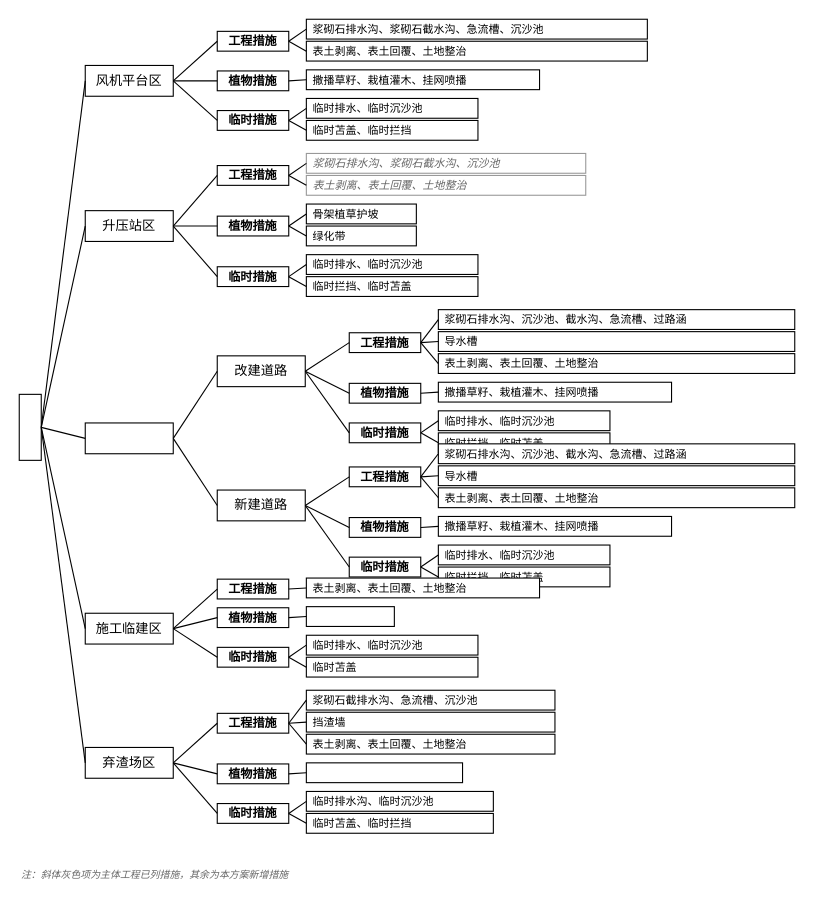
Image size: 814x905. Some labels were removed from this diagram. The shapes that lost their labels are listed below. From the top down, each one's centre as x and y in pixels, then its label:
At pixel 29 426: "防治措施体系".
At pixel 128 438: "道路工程区".
At pixel 349 616: "撒播草籽".
At pixel 384 772: "撒播草籽、栽植灌木".
